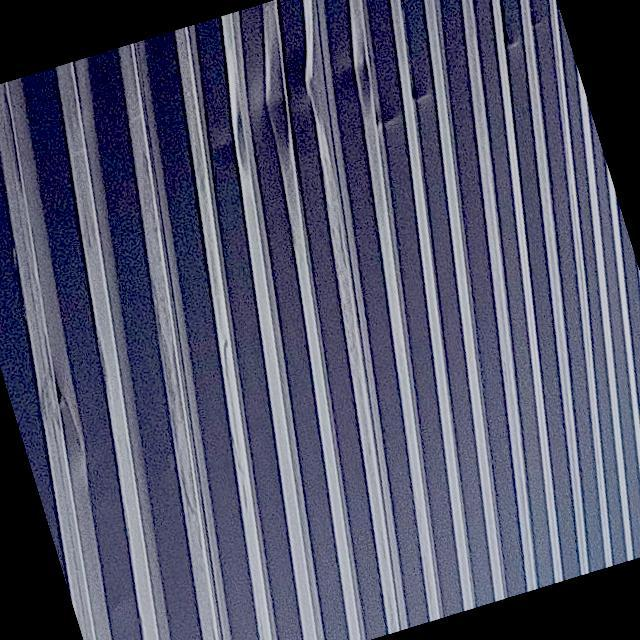dent: (193, 8, 407, 190)
